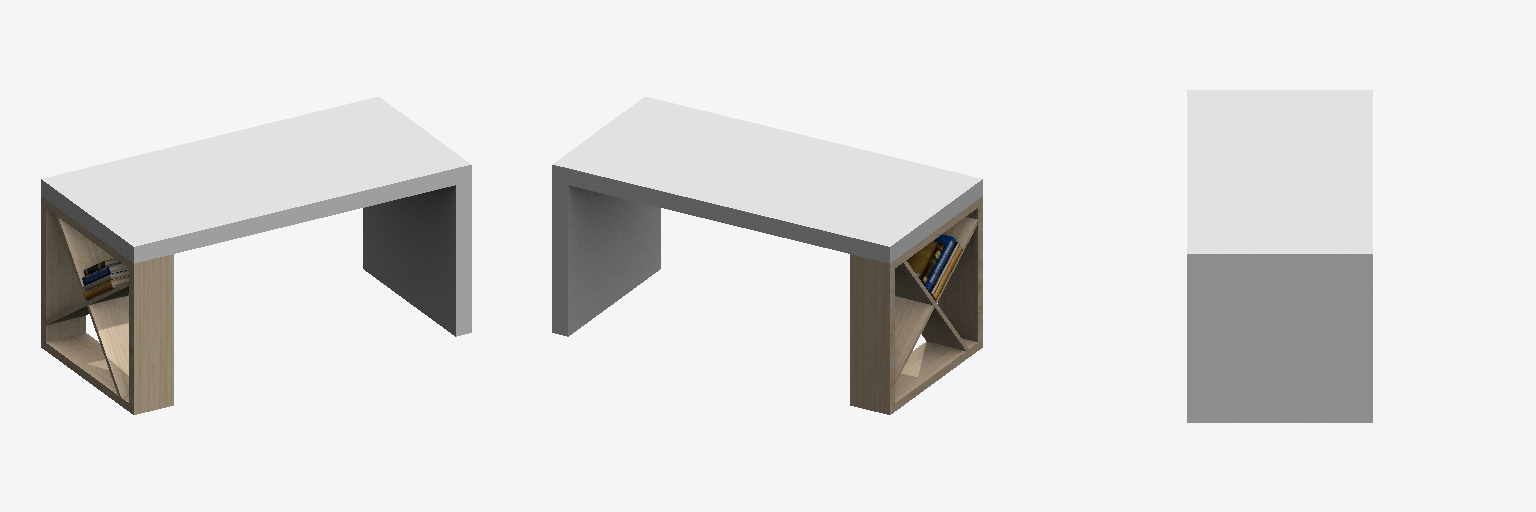
3 views of the same model, side by side, from view 1: azimuth 30°, elevation 25°; view 2: azimuth 150°, elevation 25°; view 3: azimuth 270°, elevation 25° (orthographic).
Parts seen in each view (by area): view 1: Object001; view 2: Object001; view 3: Object001.
Boxes of the visible parts, x1=… form: Object001: x1=41, y1=97, x2=471, y2=414; Object001: x1=552, y1=97, x2=982, y2=414; Object001: x1=1187, y1=90, x2=1372, y2=422.
Size of the model in its own units: 842 by 400 by 400.
1 materials, 1 textured.